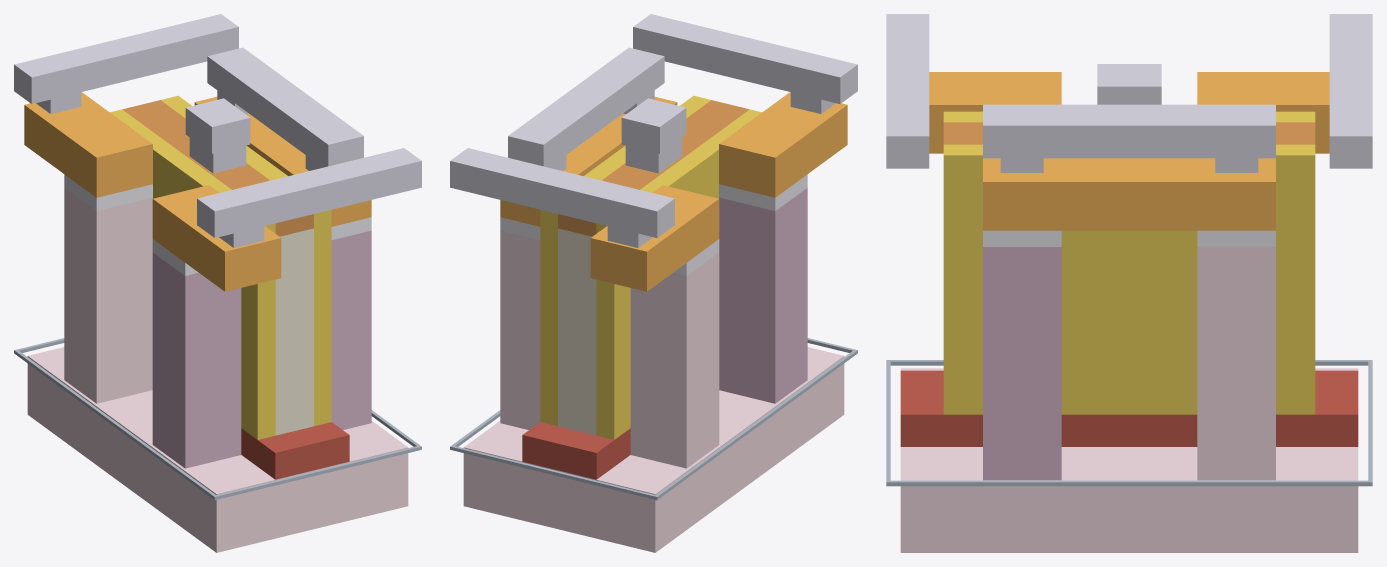
Rendered from inv_ns.glb.
3 renders of one model, left to right at view 1: azimuth 30°, elevation 25°; view 2: azimuth 150°, elevation 25°; view 3: azimuth 270°, elevation 25°, orthographic. The views are drawn at different scales.
Visible parts, largest first — view 1: substrate, n_epi_source, p_epi_source, rail_vdd, rail_gnd, m0_s_n, bar_out, spacer_out_-1, p_epi_drain, mo, m0_s_p, spacer_out_1 (+11 smaller); view 2: substrate, p_epi_source, n_epi_source, rail_gnd, rail_vdd, m0_s_p, bar_out, spacer_out_-1, n_epi_drain, mo, m0_s_n, spacer_out_1 (+11 smaller); view 3: spacer_out_1, substrate, m0_d, p_epi_drain, n_epi_drain, bar_out, sti, rail_vdd, rail_gnd, m0_s_p, m0_s_n, cellbox (+7 smaller).
Boxes of the visible parts, box(x1,y1,x2,y2) form: substrate: box(27, 347, 408, 552); n_epi_source: box(64, 188, 152, 403); p_epi_source: box(152, 252, 241, 468); rail_vdd: box(197, 148, 421, 237); rail_gnd: box(14, 14, 238, 103); m0_s_n: box(24, 92, 152, 197); bar_out: box(207, 47, 363, 167); spacer_out_-1: box(110, 109, 275, 439); p_epi_drain: box(331, 230, 371, 429); mo: box(275, 228, 313, 435); m0_s_p: box(152, 185, 281, 291); spacer_out_1: box(161, 95, 331, 426); substrate: box(463, 347, 844, 552); p_epi_source: box(719, 188, 807, 403); n_epi_source: box(630, 252, 719, 468); rail_gnd: box(450, 148, 674, 237); rail_vdd: box(633, 14, 857, 103); m0_s_p: box(719, 92, 847, 197); bar_out: box(508, 47, 664, 167); spacer_out_-1: box(596, 109, 761, 439); n_epi_drain: box(500, 230, 540, 429); mo: box(558, 228, 596, 435); m0_s_n: box(590, 185, 719, 291); spacer_out_1: box(540, 95, 710, 426); spacer_out_1: box(943, 144, 1315, 414); substrate: box(900, 368, 1358, 552); m0_d: box(983, 158, 1275, 230); p_epi_drain: box(983, 247, 1061, 480); n_epi_drain: box(1197, 247, 1275, 480); bar_out: box(983, 104, 1275, 158); sti: box(900, 370, 1358, 446); rail_vdd: box(886, 14, 929, 168); rail_gnd: box(1329, 14, 1372, 168); m0_s_p: box(929, 72, 1061, 153); m0_s_n: box(1197, 72, 1329, 153); cellbox: box(886, 360, 1372, 486).
Size of the model in its own units: 81 by 130 by 136.
